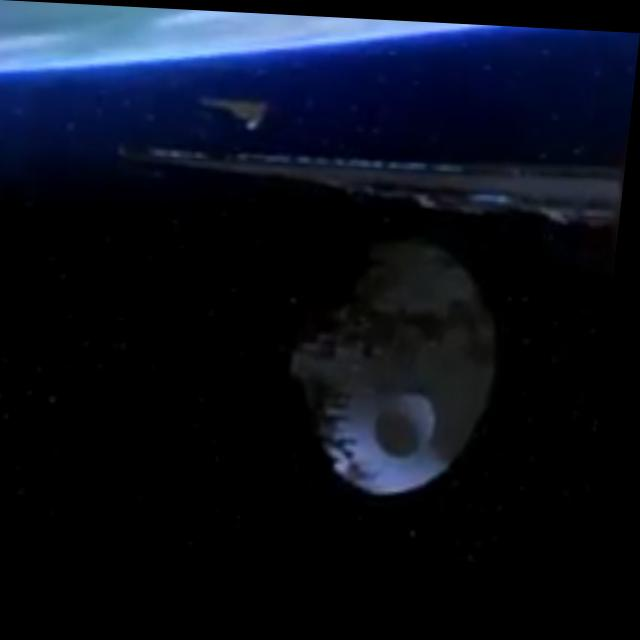deathStar: (287, 231, 514, 492)
